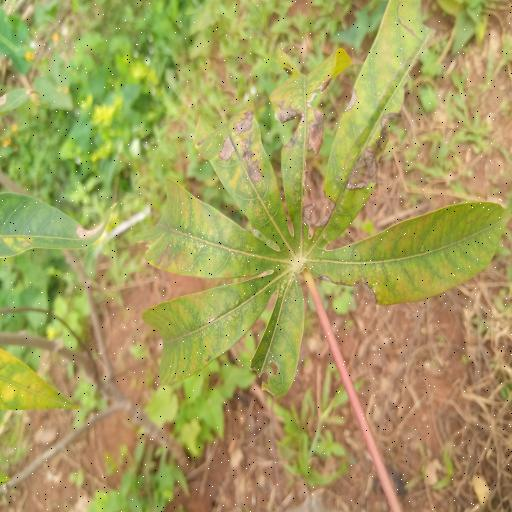Cassava_Mosaic: (140, 52, 505, 395)
